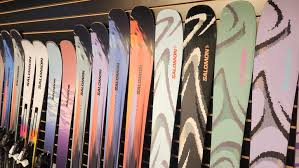skis: (211, 1, 299, 168), (148, 5, 218, 168), (103, 5, 157, 168), (70, 22, 111, 168), (8, 38, 51, 168), (41, 41, 80, 168), (1, 29, 28, 168)
